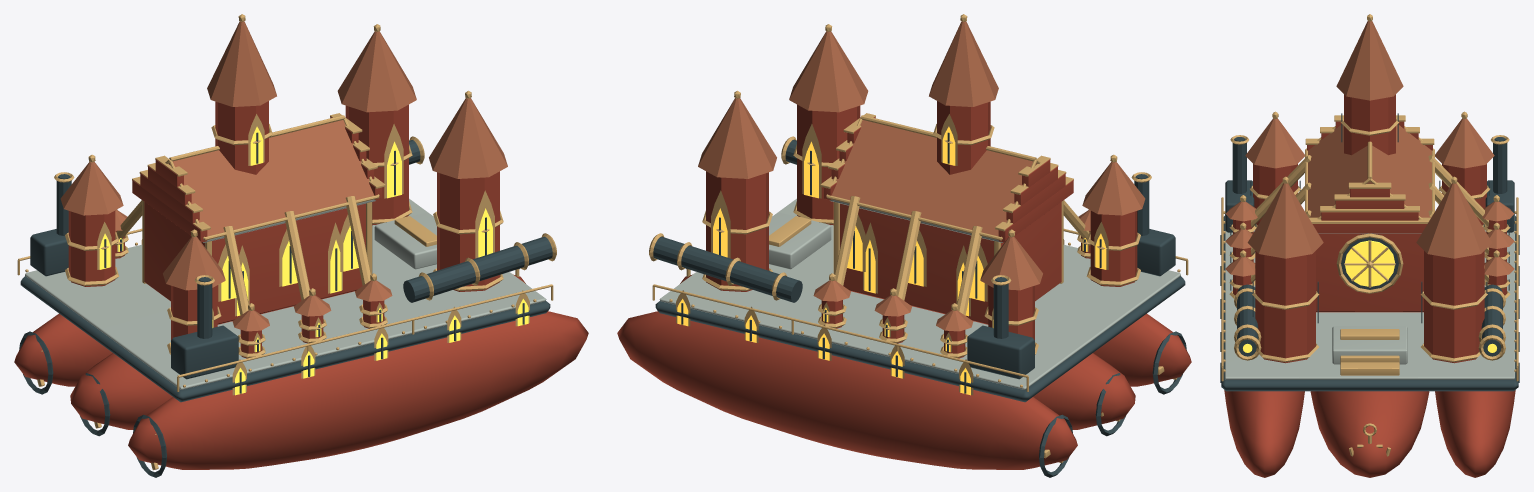
File: enemy-kaiserburg.glb
3 renders of one model, left to right at view 1: azimuth 30°, elevation 25°; view 2: azimuth 150°, elevation 25°; view 3: azimuth 270°, elevation 25°, orthographic. The views are drawn at different scales.
Parts seen in each view (by area): view 1: enemy-kaiserburg / Paint | Hanseatic oxblood, enemy-kaiserburg / Copper | fired red roof, enemy-kaiserburg / Paint | armored limestone, enemy-kaiserburg / Hull | charcoal iron, enemy-kaiserburg / Fittings | worn maritime brass, enemy-kaiserburg / Lamp | furnace amber; view 2: enemy-kaiserburg / Paint | Hanseatic oxblood, enemy-kaiserburg / Copper | fired red roof, enemy-kaiserburg / Paint | armored limestone, enemy-kaiserburg / Hull | charcoal iron, enemy-kaiserburg / Fittings | worn maritime brass, enemy-kaiserburg / Lamp | furnace amber; view 3: enemy-kaiserburg / Paint | Hanseatic oxblood, enemy-kaiserburg / Copper | fired red roof, enemy-kaiserburg / Fittings | worn maritime brass, enemy-kaiserburg / Paint | armored limestone, enemy-kaiserburg / Hull | charcoal iron, enemy-kaiserburg / Lamp | furnace amber.
Part boxes in pixels (x1,y1,x2,y2): enemy-kaiserburg / Paint | Hanseatic oxblood: (14, 101, 588, 469); enemy-kaiserburg / Copper | fired red roof: (60, 21, 507, 331); enemy-kaiserburg / Paint | armored limestone: (25, 198, 546, 389); enemy-kaiserburg / Hull | charcoal iron: (19, 132, 552, 477); enemy-kaiserburg / Fittings | worn maritime brass: (17, 14, 556, 470); enemy-kaiserburg / Lamp | furnace amber: (99, 126, 528, 395); enemy-kaiserburg / Paint | Hanseatic oxblood: (617, 101, 1191, 469); enemy-kaiserburg / Copper | fired red roof: (698, 21, 1145, 331); enemy-kaiserburg / Paint | armored limestone: (659, 198, 1180, 389); enemy-kaiserburg / Hull | charcoal iron: (653, 132, 1186, 477); enemy-kaiserburg / Fittings | worn maritime brass: (649, 14, 1188, 463); enemy-kaiserburg / Lamp | furnace amber: (677, 126, 1106, 395); enemy-kaiserburg / Paint | Hanseatic oxblood: (1224, 94, 1515, 477); enemy-kaiserburg / Copper | fired red roof: (1225, 21, 1514, 276); enemy-kaiserburg / Fittings | worn maritime brass: (1221, 14, 1518, 456); enemy-kaiserburg / Paint | armored limestone: (1225, 214, 1514, 379); enemy-kaiserburg / Hull | charcoal iron: (1220, 113, 1519, 391); enemy-kaiserburg / Lamp | furnace amber: (1243, 240, 1496, 352).
Bounding box in the file's own units: 10.1 × 8.48 × 6.15.
